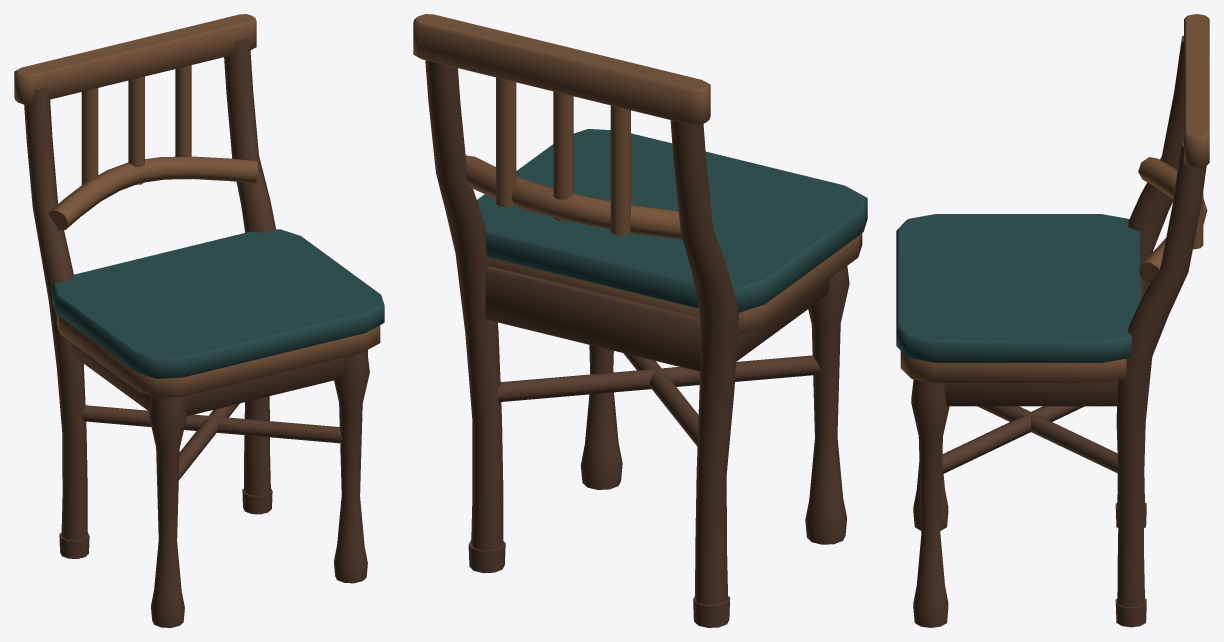
The model's file is rpg-mansion-music-01.glb.
3 renders of one model, left to right at view 1: azimuth 30°, elevation 25°; view 2: azimuth 150°, elevation 25°; view 3: azimuth 270°, elevation 25°, orthographic. The views are drawn at different scales.
Parts seen in each view (by area): view 1: rpg-mansion-music-01; view 2: rpg-mansion-music-01; view 3: rpg-mansion-music-01.
Part boxes in pixels (x1,y1,x2,y2): rpg-mansion-music-01: (14,14,384,627); rpg-mansion-music-01: (413,14,867,627); rpg-mansion-music-01: (896,14,1209,627).
Size of the model in its own units: 0.43 by 0.775 by 0.442.
